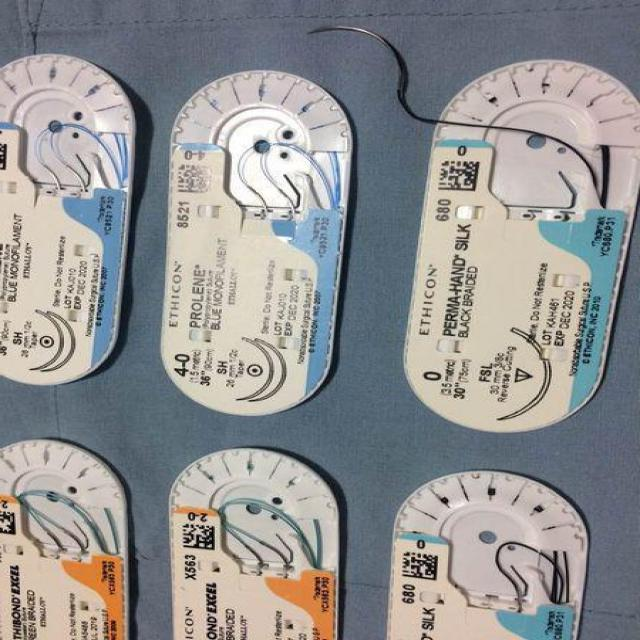Needle: (304, 23, 408, 94), (256, 543, 293, 572), (504, 580, 526, 614), (64, 166, 88, 196), (276, 190, 299, 221), (248, 189, 270, 220), (41, 165, 64, 193), (61, 532, 87, 556), (243, 547, 265, 574), (44, 531, 66, 554)
